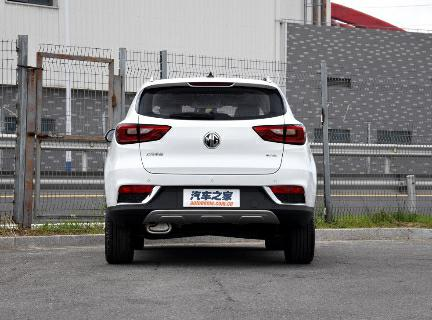名爵-ZS: (93, 69, 330, 276)
